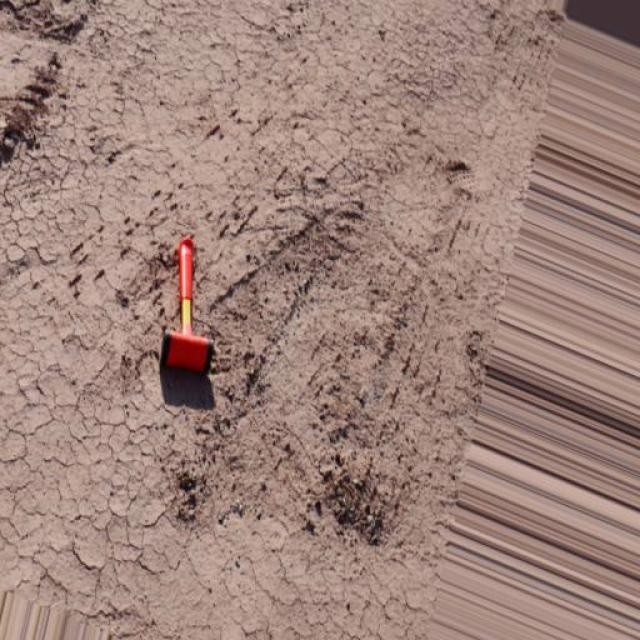mallet: (162, 234, 216, 376)
